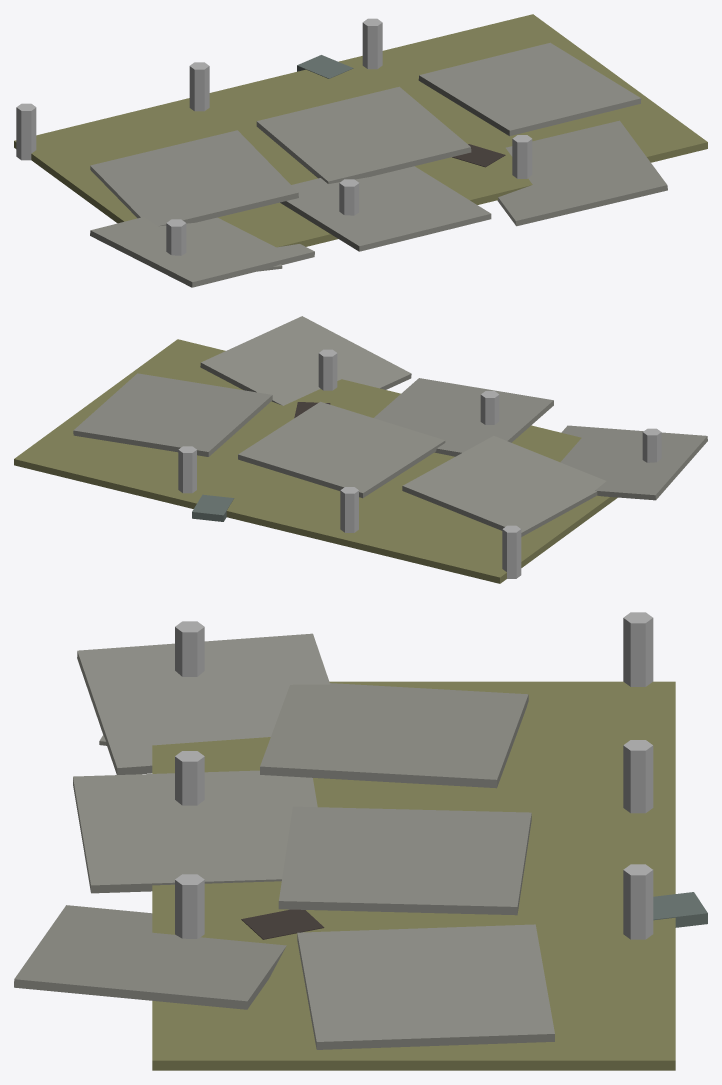
Rendered from SM_MarquesinaBus_v1_Chapas_e3_Brecha_LOD1.fbx.
3 renders of one model, top to bottom at view 1: azimuth 30°, elevation 25°; view 2: azimuth 150°, elevation 25°; view 3: azimuth 270°, elevation 25°, orthographic. The views are drawn at different scales.
Parts seen in each view (by area): view 1: SM_marquesina_bus_v7_LOD1; view 2: SM_marquesina_bus_v7_LOD1; view 3: SM_marquesina_bus_v7_LOD1.
Boxes of the visible parts, x1,y1,x2,y2 form: SM_marquesina_bus_v7_LOD1: (14,14,707,287); SM_marquesina_bus_v7_LOD1: (14,316,707,583); SM_marquesina_bus_v7_LOD1: (14,612,707,1070).
Size of the model in its own units: 13.05 by 1.16 by 9.29.
